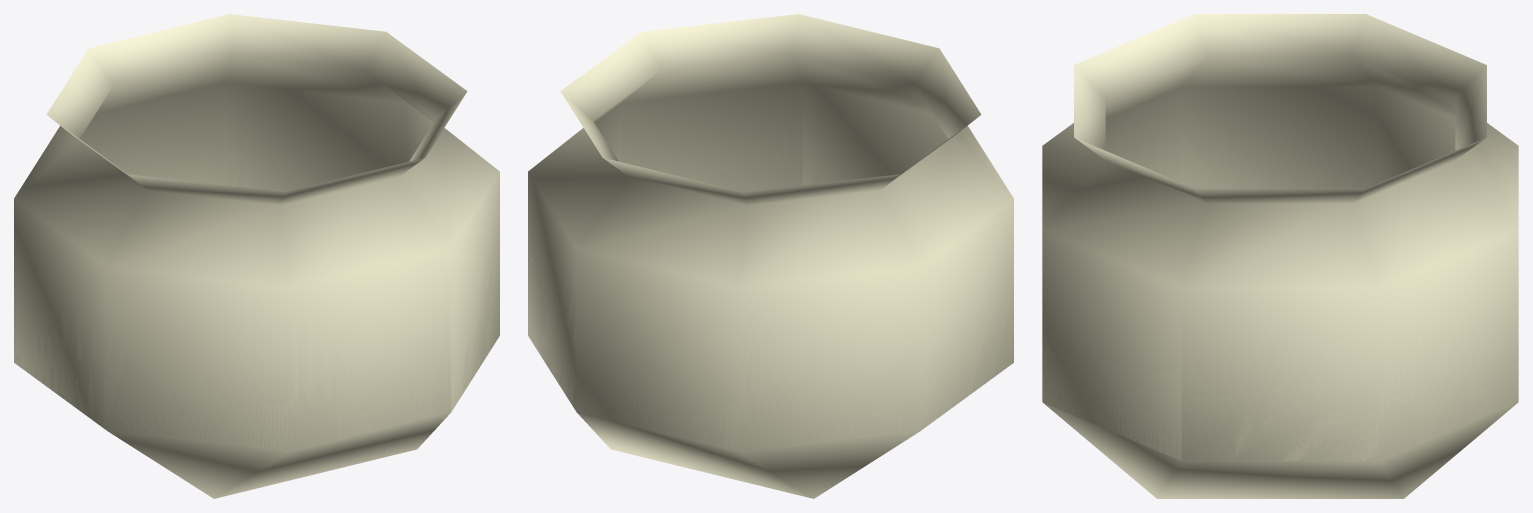
Rendered from Cooking_Pot.glb.
The picture shows the model from 3 angles, left to right: view 1: azimuth 30°, elevation 25°; view 2: azimuth 150°, elevation 25°; view 3: azimuth 270°, elevation 25°; orthographic projection. The views are drawn at different scales.
Parts seen in each view (by area): view 1: Cooking Pot; view 2: Cooking Pot; view 3: Cooking Pot.
Boxes of the visible parts, x1,y1,x2,y2 form: Cooking Pot: (14,14,499,498); Cooking Pot: (528,14,1013,498); Cooking Pot: (1042,14,1518,498).
Bounding box in the file's own units: 0.375 × 0.3 × 0.375.
